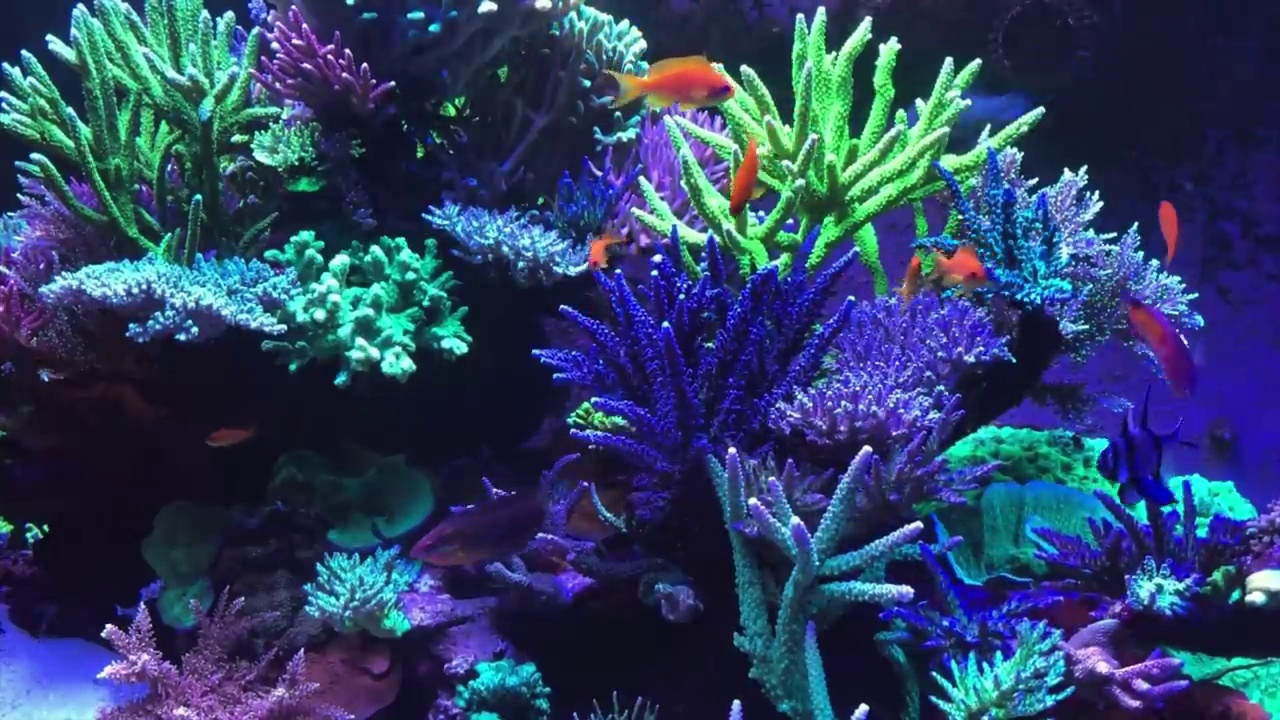fish: (408, 491, 552, 570), (607, 53, 735, 117), (1124, 293, 1196, 398), (931, 245, 991, 294), (727, 133, 759, 216), (590, 229, 627, 273), (1157, 195, 1179, 269), (200, 424, 257, 451), (895, 257, 925, 306)
